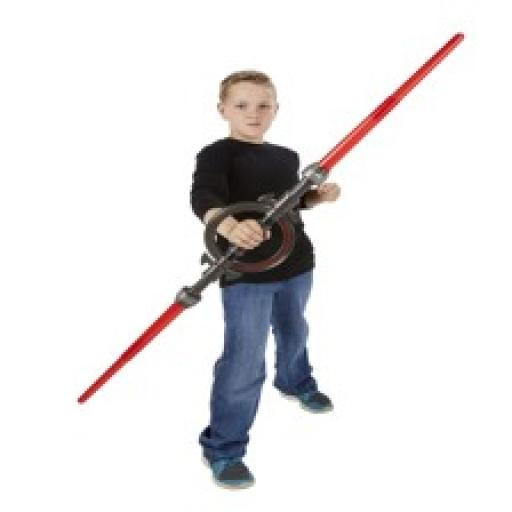human: (189, 70, 340, 491)
sith saber: (71, 32, 464, 406)
